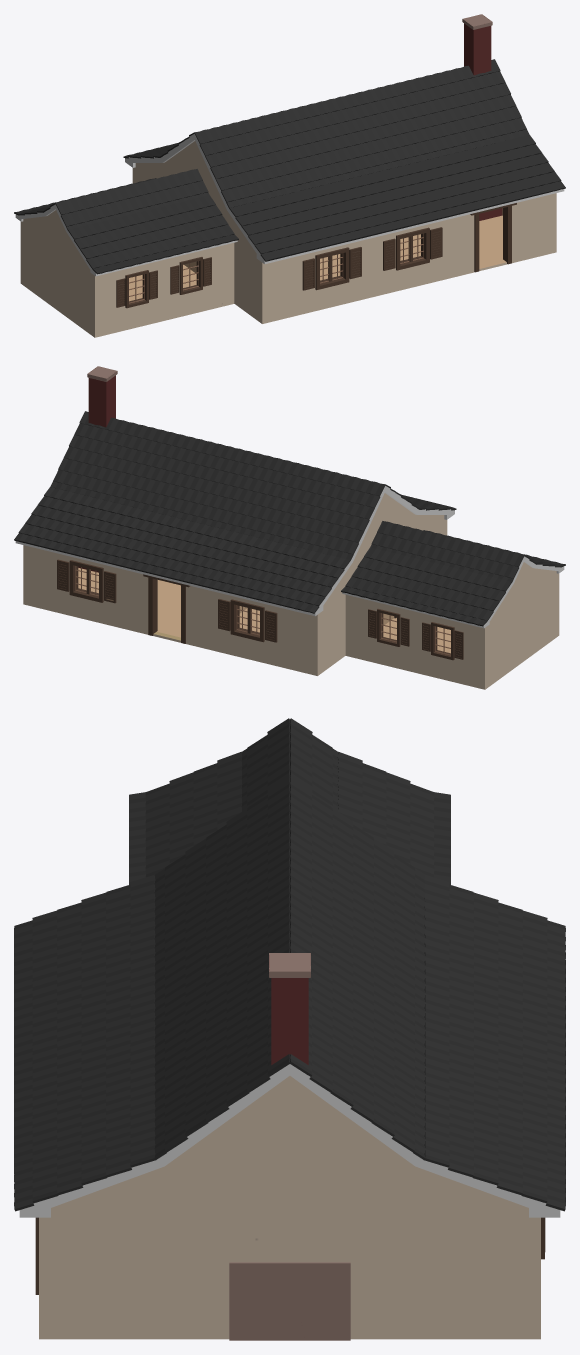
File: RenskesHouse.fbx
3 views of the same model, one above another, from view 1: azimuth 30°, elevation 25°; view 2: azimuth 150°, elevation 25°; view 3: azimuth 270°, elevation 25° (orthographic). The views are drawn at different scales.
Visible parts, largest first — view 1: RoofShingle, House, ChimneyStove; view 2: RoofShingle, House, ChimneyStove; view 3: RoofShingle, House, ChimneyStove.
Part boxes in pixels (left/top/right/bottom): RoofShingle: left=14, top=59, right=565, bottom=274; House: left=15, top=134, right=564, bottom=337; ChimneyStove: left=462, top=14, right=502, bottom=220; RoofShingle: left=14, top=411, right=565, bottom=626; House: left=15, top=486, right=564, bottom=689; ChimneyStove: left=78, top=366, right=117, bottom=572; RoofShingle: left=14, top=718, right=565, bottom=1211; House: left=19, top=1064, right=560, bottom=1339; ChimneyStove: left=229, top=953, right=350, bottom=1340.
Size of the model in its own units: 2181 by 893 by 1227.
3 materials, 3 textured.
